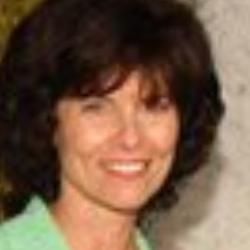face: (2, 1, 226, 216)
